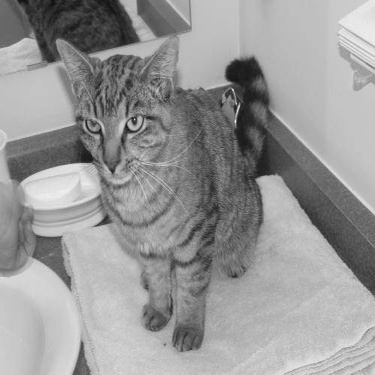cat: (50, 33, 266, 352)
